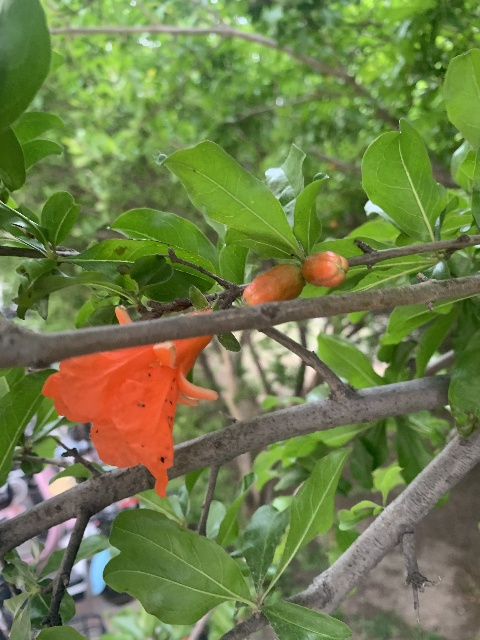bud: (242, 263, 303, 307), (302, 250, 348, 287)
flower: (42, 303, 220, 497)
